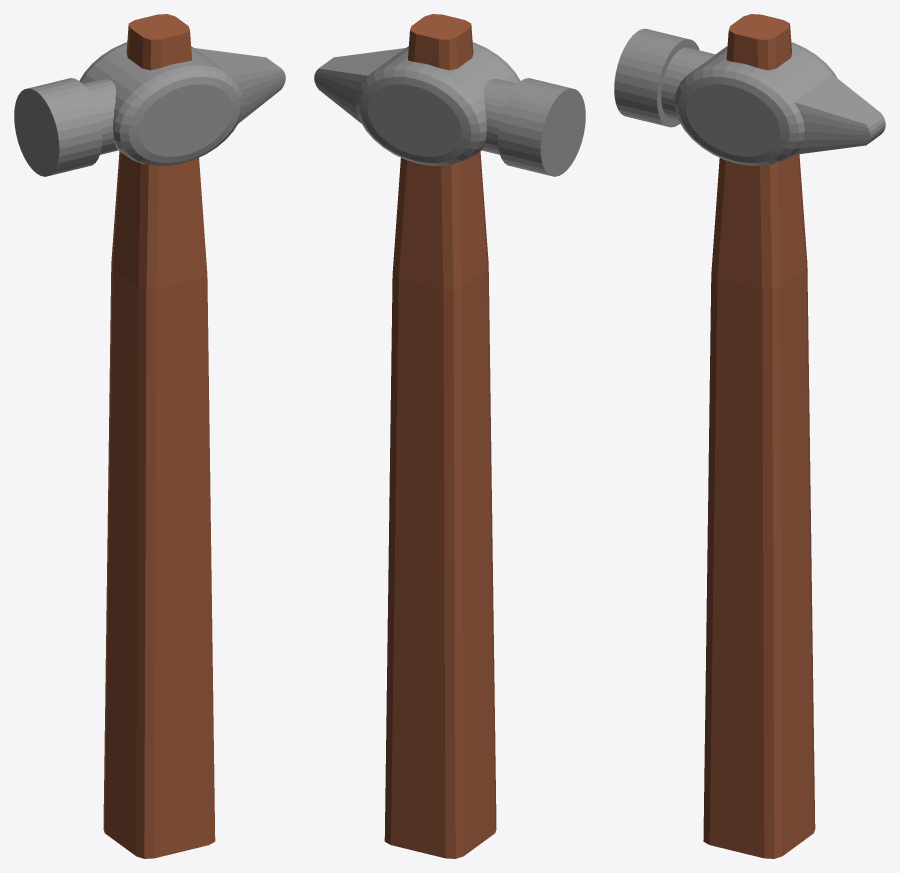
Rendered from hammer.fbx.
3 renders of one model, left to right at view 1: azimuth 30°, elevation 25°; view 2: azimuth 150°, elevation 25°; view 3: azimuth 330°, elevation 25°, orthographic.
Visible parts, largest first — view 1: Cube, Cylinder; view 2: Cube, Cylinder; view 3: Cube, Cylinder.
Part boxes in pixels (<box>): Cube: <box>103,14,215,858</box>; Cylinder: <box>14,42,285,176</box>; Cube: <box>384,14,496,858</box>; Cylinder: <box>314,42,585,176</box>; Cube: <box>703,14,815,858</box>; Cylinder: <box>614,28,885,165</box>.
Size of the model in its own units: 156 by 500 by 58.76.
